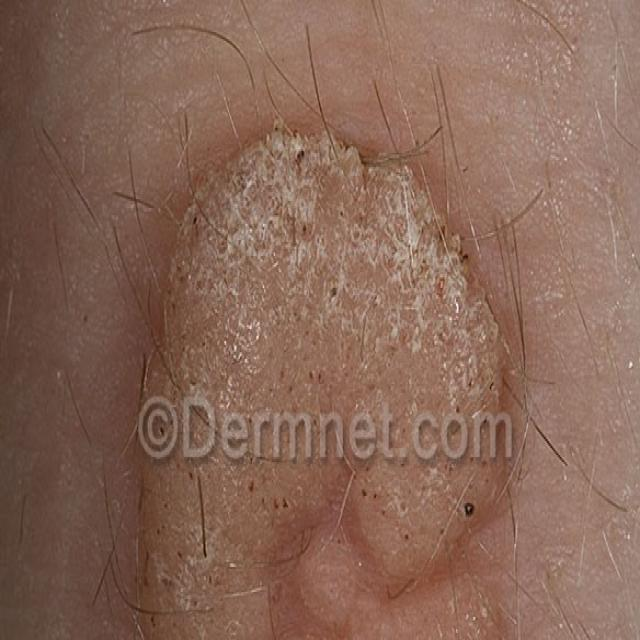Warts: (119, 103, 526, 640)
